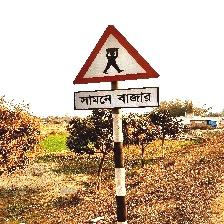Market-in-front: (72, 25, 161, 111)
